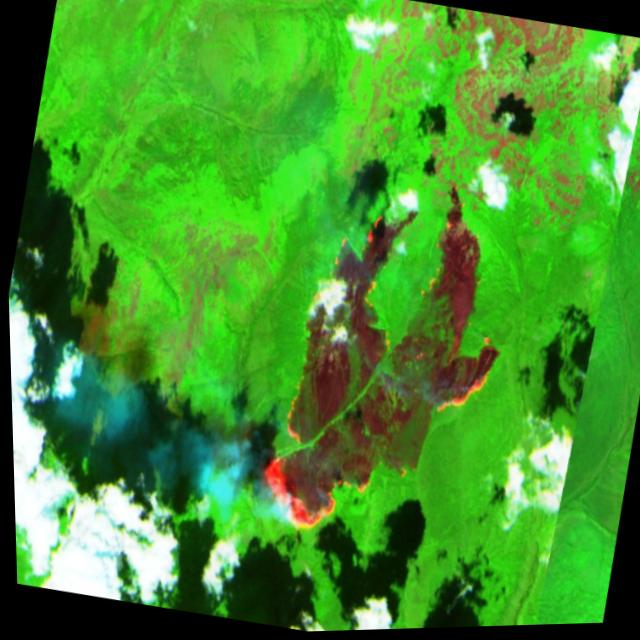fire: (233, 150, 539, 570)
